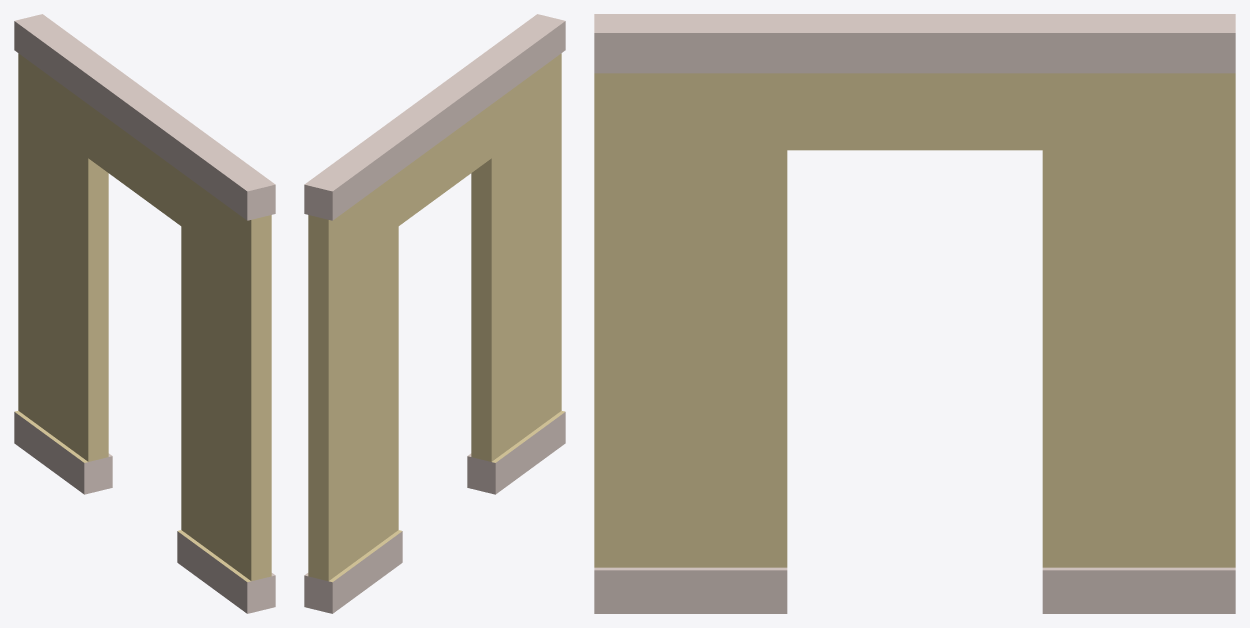
The model's file is Door Wall Test.fbx.
3 renders of one model, left to right at view 1: azimuth 30°, elevation 25°; view 2: azimuth 150°, elevation 25°; view 3: azimuth 270°, elevation 25°, orthographic. The views are drawn at different scales.
Parts seen in each view (by area): view 1: Inside Door Wall; view 2: Inside Door Wall; view 3: Inside Door Wall.
Part boxes in pixels (x1,y1,x2,y2): Inside Door Wall: [14, 14, 275, 613]; Inside Door Wall: [304, 14, 565, 613]; Inside Door Wall: [594, 14, 1235, 613].
Bounding box in the file's own units: 14 × 200 × 200.
